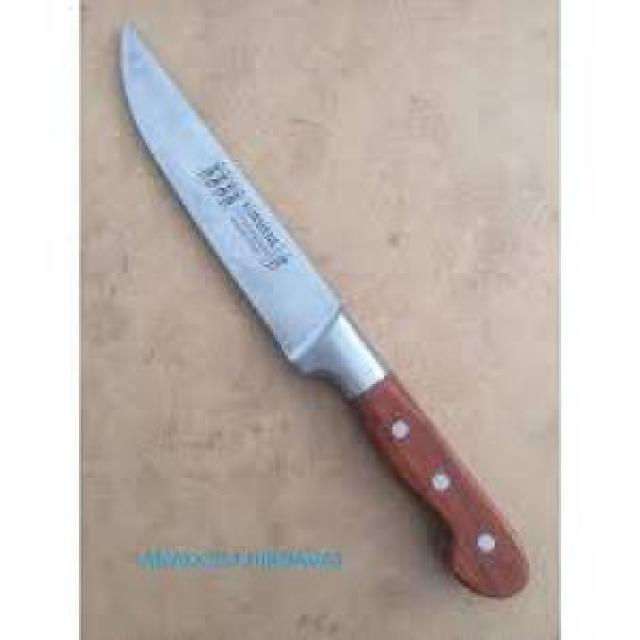knife: (115, 15, 539, 609)
